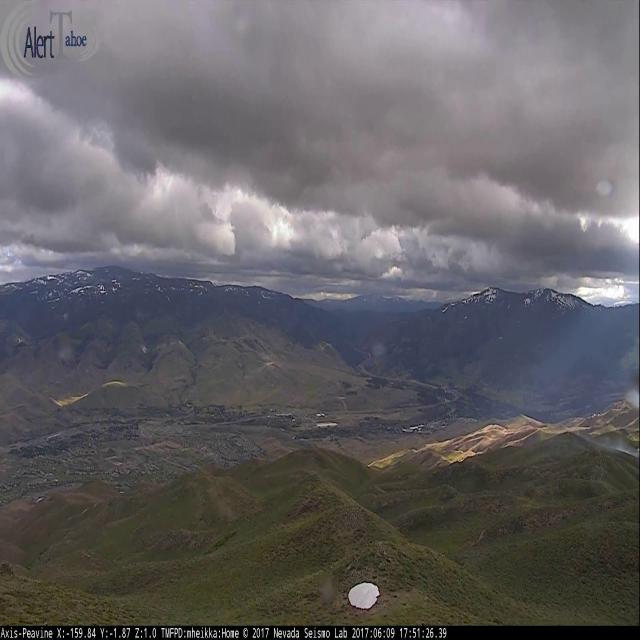smoke: (584, 341, 640, 459)
